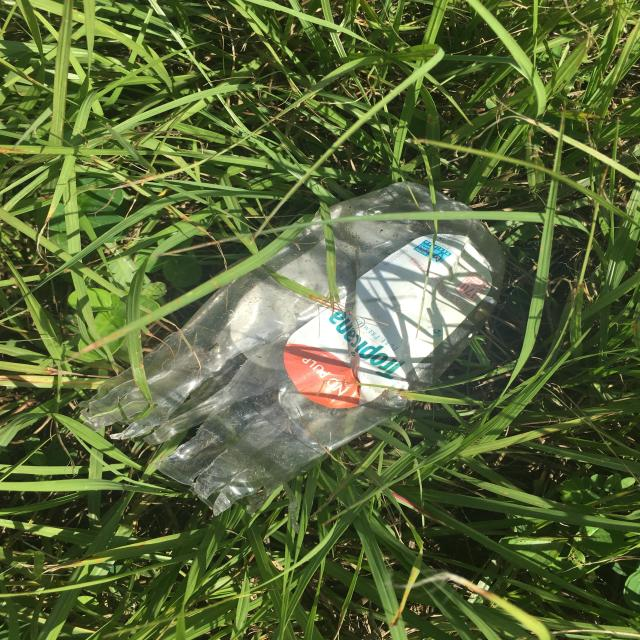litter: (73, 177, 504, 518)
